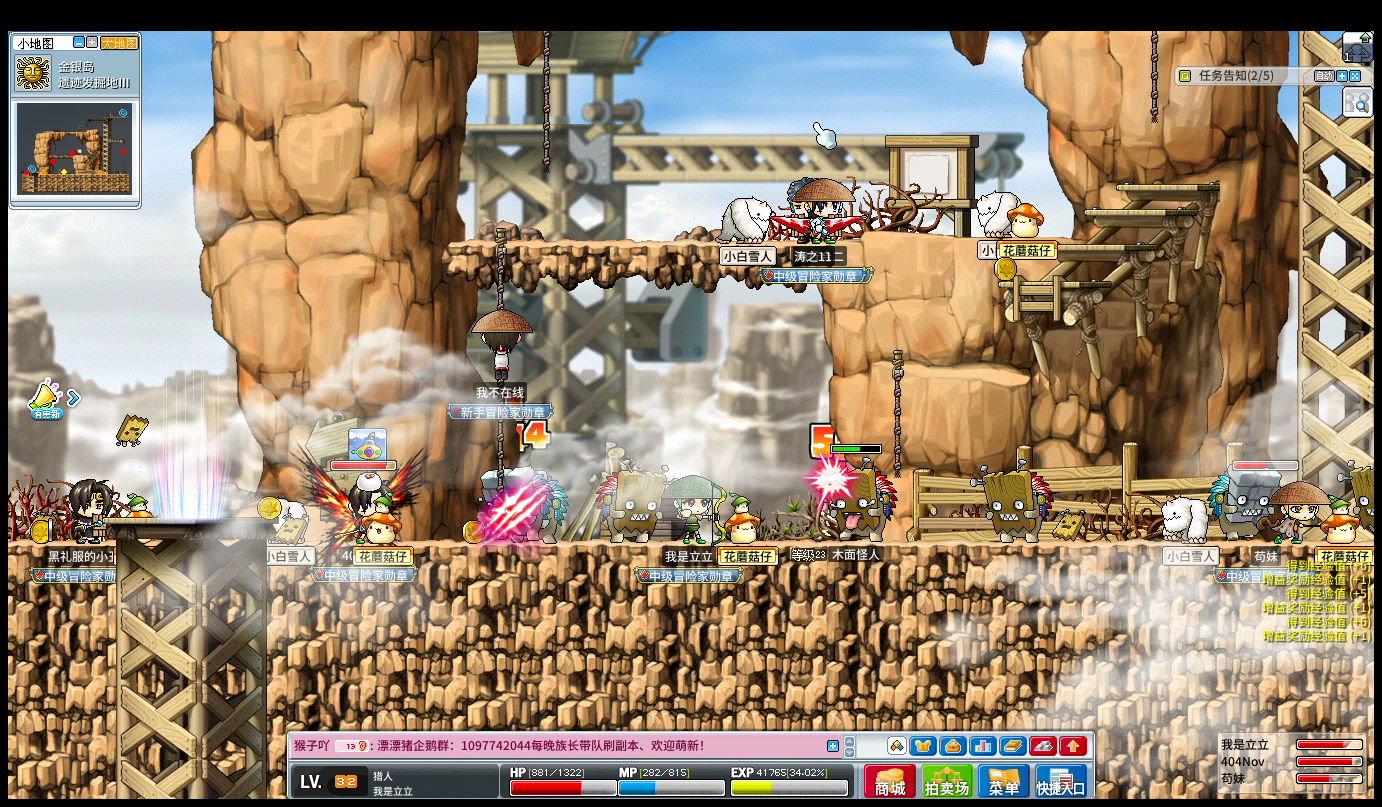floor: (444, 238, 824, 248), (922, 364, 1030, 384), (109, 515, 277, 523), (994, 280, 1109, 291), (8, 539, 118, 550), (935, 233, 1081, 241), (1080, 205, 1196, 215), (994, 279, 1109, 288), (1078, 207, 1191, 215), (1049, 243, 1156, 251), (1115, 184, 1218, 191)
monster: (817, 456, 898, 540), (593, 461, 670, 543), (978, 463, 1052, 544), (478, 464, 548, 542), (1208, 466, 1275, 540)
rope: (889, 350, 903, 473), (542, 30, 551, 176), (541, 30, 550, 174), (493, 227, 506, 310), (1148, 29, 1156, 120), (494, 419, 502, 470)
